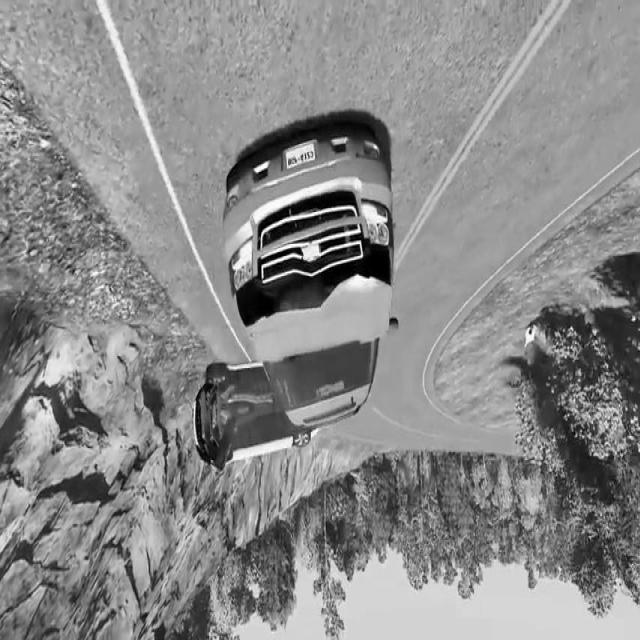severe: (192, 357, 321, 482)
